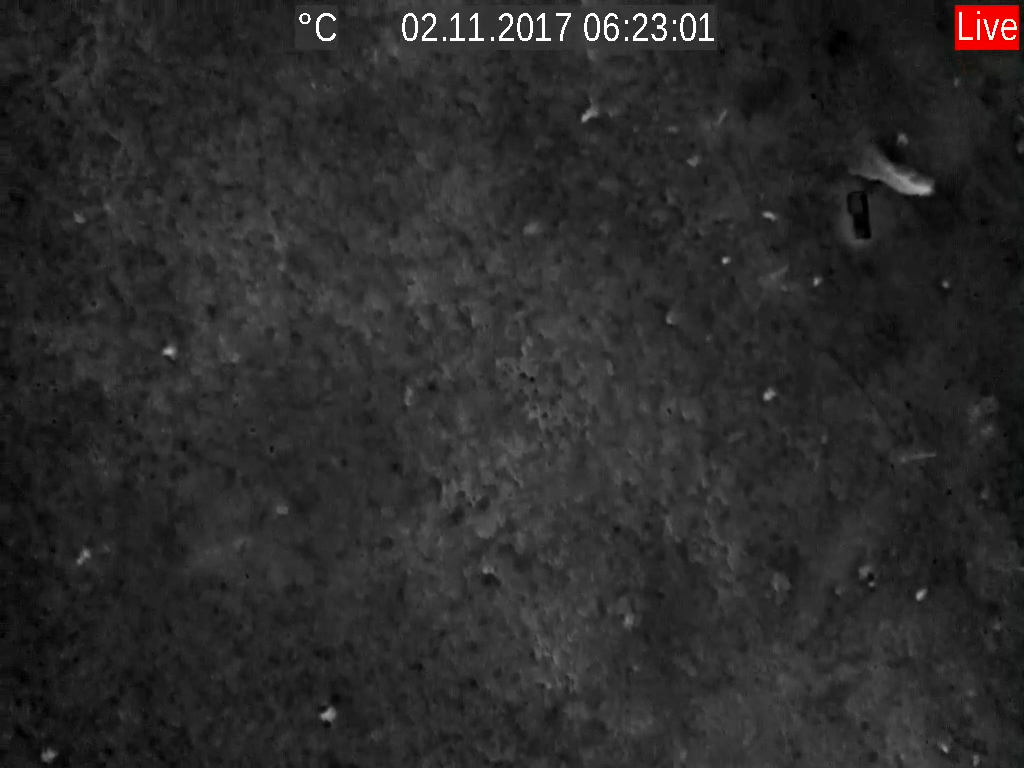warren: (850, 140, 938, 198), (895, 445, 943, 468), (750, 380, 781, 406), (576, 98, 601, 127), (316, 700, 344, 725), (159, 336, 181, 363), (910, 581, 931, 604)
